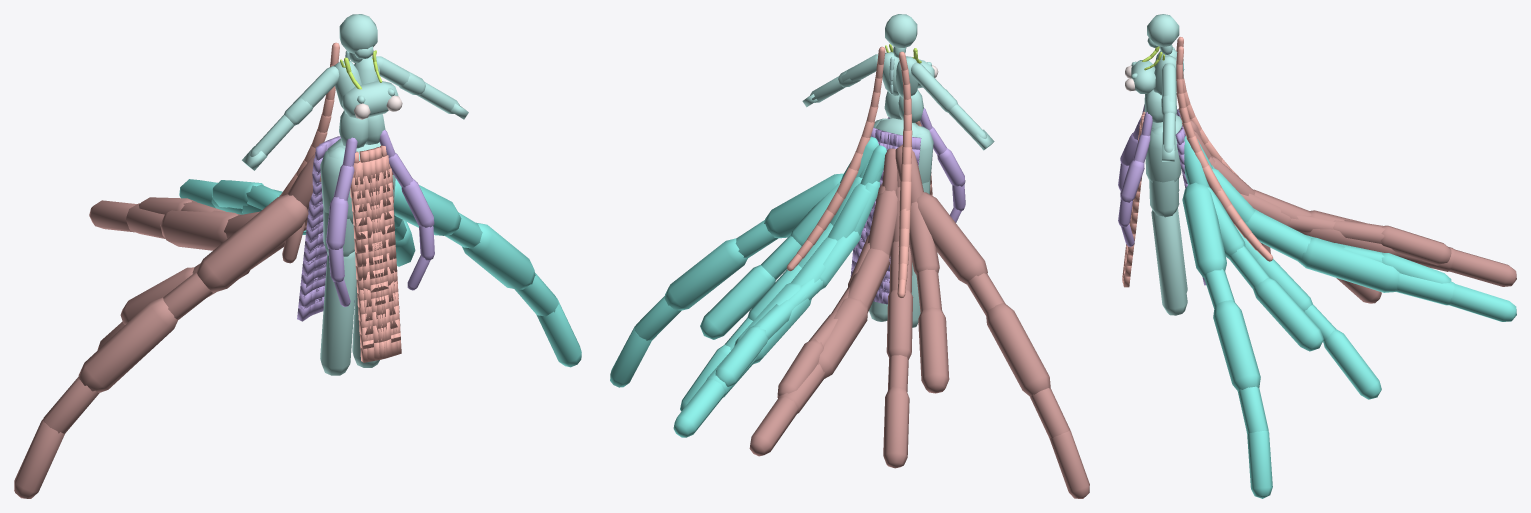
The model's file is Aponia.fbx_RigidBodyWorld.fbx.
3 renders of one model, left to right at view 1: azimuth 30°, elevation 25°; view 2: azimuth 150°, elevation 25°; view 3: azimuth 270°, elevation 25°, orthographic. The views are drawn at different scales.
Parts seen in each view (by area): view 1: 07Q_Bone_Aponia_C1_Wing1_BR3_01.001, 07S_Bone_Aponia_C1_Wing1_BR3_03.001, 00G_右ひざ.001, 081_Bone_Aponia_C1_Wing1_BL3_03.001, 099_Bone_Aponia_C1_Wing1_BR1_04.001, 07U_Bone_Aponia_C1_Wing1_BR3_05.001, 07Z_Bone_Aponia_C1_Wing1_BL3_01.001, 083_Bone_Aponia_C1_Wing1_BL3_05.001, 07T_Bone_Aponia_C1_Wing1_BR3_04.001, 00M_上半身22.001, 07R_Bone_Aponia_C1_Wing1_BR3_02.001, 00C_頭_1.001 (+16 smaller); view 2: 07S_Bone_Aponia_C1_Wing1_BR3_03.001, 07Q_Bone_Aponia_C1_Wing1_BR3_01.001, 081_Bone_Aponia_C1_Wing1_BL3_03.001, 07Y_Bone_Aponia_C1_Wing1_BL2_04.001, 07P_Bone_Aponia_C1_Wing1_BR2_04.001, 099_Bone_Aponia_C1_Wing1_BR1_04.001, 08T_Bone_Aponia_C1_Wing_BR2_06.001, 07Z_Bone_Aponia_C1_Wing1_BL3_01.001, 08R_Bone_Aponia_C1_Wing_BR2_04.001, 08H_Bone_Aponia_C1_Wing_BL1_06.001, 07U_Bone_Aponia_C1_Wing1_BR3_05.001, 09B_Bone_Aponia_C1_Wing1_BR1_06.001 (+32 smaller); view 3: 093_Bone_Aponia_C1_Wing1_BL1_04.001, 07Z_Bone_Aponia_C1_Wing1_BL3_01.001, 081_Bone_Aponia_C1_Wing1_BL3_03.001, 00I_左ひざ.001, 07Y_Bone_Aponia_C1_Wing1_BL2_04.001, 08N_Bone_Aponia_C1_Wing_BL2_06.001, 092_Bone_Aponia_C1_Wing1_BL1_03.001, 08Z_Bone_Aponia_C1_Wing_BR1_06.001, 095_Bone_Aponia_C1_Wing1_BL1_06.001, 09B_Bone_Aponia_C1_Wing1_BR1_06.001, 083_Bone_Aponia_C1_Wing1_BL3_05.001, 00K_左足1.001 (+24 smaller).
Part boxes in pixels (x1,y1,x2,y2): 07Q_Bone_Aponia_C1_Wing1_BR3_01.001: (196, 194, 308, 292); 07S_Bone_Aponia_C1_Wing1_BR3_03.001: (78, 297, 177, 392); 00G_右ひざ.001: (320, 251, 356, 375); 081_Bone_Aponia_C1_Wing1_BL3_03.001: (462, 222, 535, 289); 099_Bone_Aponia_C1_Wing1_BR1_04.001: (160, 210, 238, 250); 07U_Bone_Aponia_C1_Wing1_BR3_05.001: (14, 419, 64, 498); 07Z_Bone_Aponia_C1_Wing1_BL3_01.001: (393, 178, 461, 235); 083_Bone_Aponia_C1_Wing1_BL3_05.001: (536, 298, 581, 367); 07T_Bone_Aponia_C1_Wing1_BR3_04.001: (43, 376, 99, 433); 00M_上半身22.001: (342, 80, 398, 118); 07R_Bone_Aponia_C1_Wing1_BR3_02.001: (163, 272, 212, 319); 00C_頭_1.001: (339, 14, 377, 53); 07S_Bone_Aponia_C1_Wing1_BR3_03.001: (986, 303, 1050, 396); 07Q_Bone_Aponia_C1_Wing1_BR3_01.001: (917, 192, 987, 284); 081_Bone_Aponia_C1_Wing1_BL3_03.001: (664, 238, 747, 310); 07Y_Bone_Aponia_C1_Wing1_BL2_04.001: (700, 265, 775, 339); 07P_Bone_Aponia_C1_Wing1_BR2_04.001: (918, 307, 949, 393); 099_Bone_Aponia_C1_Wing1_BR1_04.001: (818, 297, 867, 379); 08T_Bone_Aponia_C1_Wing_BR2_06.001: (883, 387, 909, 468); 07Z_Bone_Aponia_C1_Wing1_BL3_01.001: (764, 173, 843, 238); 08R_Bone_Aponia_C1_Wing_BR2_04.001: (886, 289, 913, 359); 08H_Bone_Aponia_C1_Wing_BL1_06.001: (715, 326, 768, 386); 07U_Bone_Aponia_C1_Wing1_BR3_05.001: (1049, 430, 1089, 498); 09B_Bone_Aponia_C1_Wing1_BR1_06.001: (749, 397, 797, 456); 093_Bone_Aponia_C1_Wing1_BL1_04.001: (1298, 237, 1400, 292); 07Z_Bone_Aponia_C1_Wing1_BL3_01.001: (1182, 182, 1226, 277); 081_Bone_Aponia_C1_Wing1_BL3_03.001: (1213, 300, 1260, 391); 00I_左ひざ.001: (1151, 210, 1187, 315); 07Y_Bone_Aponia_C1_Wing1_BL2_04.001: (1253, 277, 1323, 351); 08N_Bone_Aponia_C1_Wing_BL2_06.001: (1323, 329, 1381, 399); 092_Bone_Aponia_C1_Wing1_BL1_03.001: (1245, 210, 1310, 261); 08Z_Bone_Aponia_C1_Wing_BR1_06.001: (1381, 225, 1451, 265); 095_Bone_Aponia_C1_Wing1_BL1_06.001: (1449, 284, 1516, 321); 09B_Bone_Aponia_C1_Wing1_BR1_06.001: (1449, 249, 1516, 286); 083_Bone_Aponia_C1_Wing1_BL3_05.001: (1247, 430, 1272, 498); 00K_左足1.001: (1145, 125, 1181, 182).
Bounding box in the file's own units: 277 × 216 × 208.
